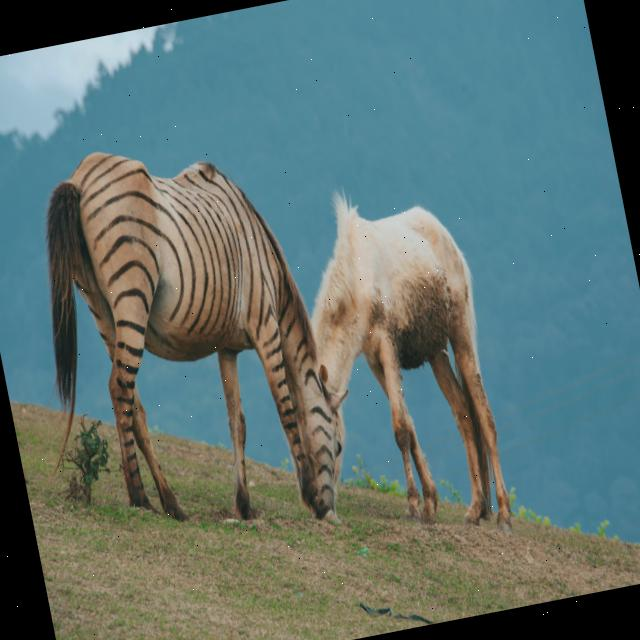Zebra: (14, 109, 374, 572)
